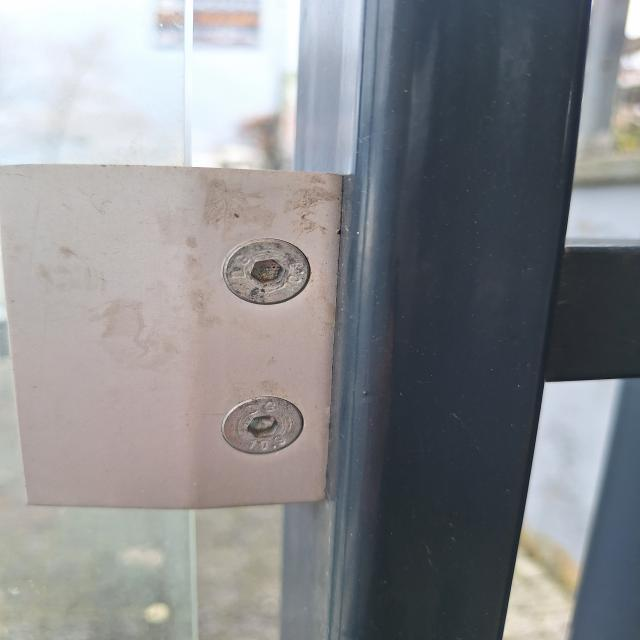Hex Socket Allen: (231, 240, 315, 308), (233, 397, 298, 454)
